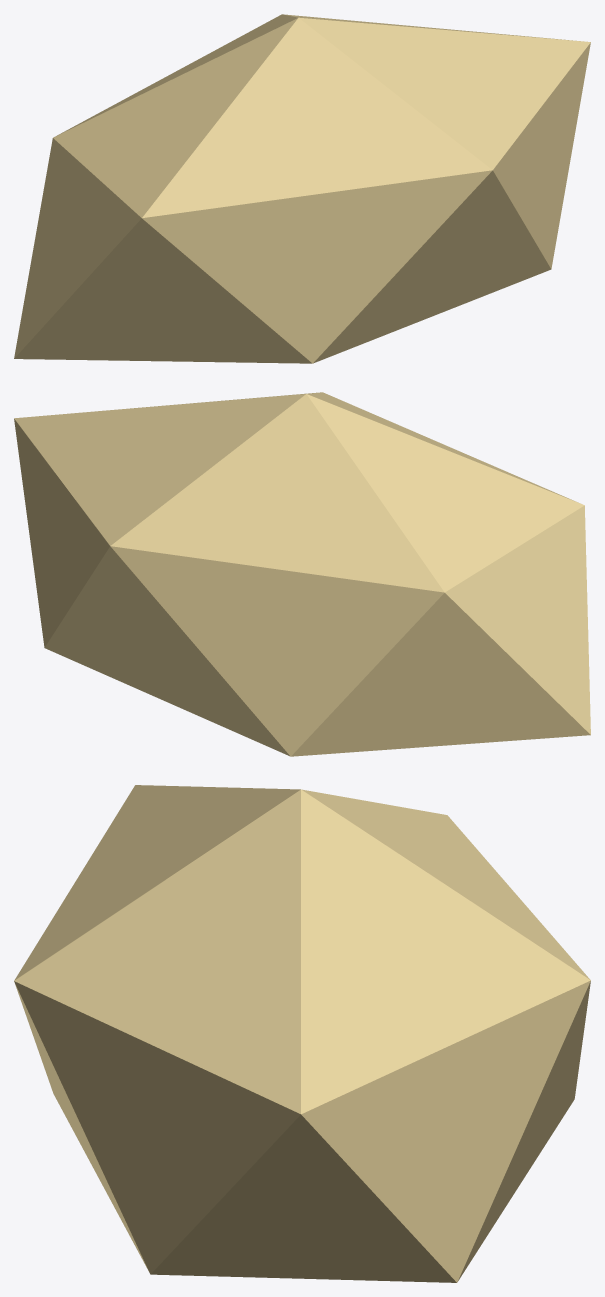
File: item_068_millet_seed_s.glb
The picture shows the model from 3 angles, top to bottom: view 1: azimuth 30°, elevation 25°; view 2: azimuth 150°, elevation 25°; view 3: azimuth 270°, elevation 25°; orthographic projection. The views are drawn at different scales.
Visible parts, largest first — view 1: item_068_millet_seed_s; view 2: item_068_millet_seed_s; view 3: item_068_millet_seed_s.
Part boxes in pixels (x1,y1,x2,y2): item_068_millet_seed_s: [14, 14, 590, 363]; item_068_millet_seed_s: [14, 392, 590, 756]; item_068_millet_seed_s: [14, 785, 590, 1282].
Size of the model in its own units: 0.3469 by 0.1963 by 0.2205.
